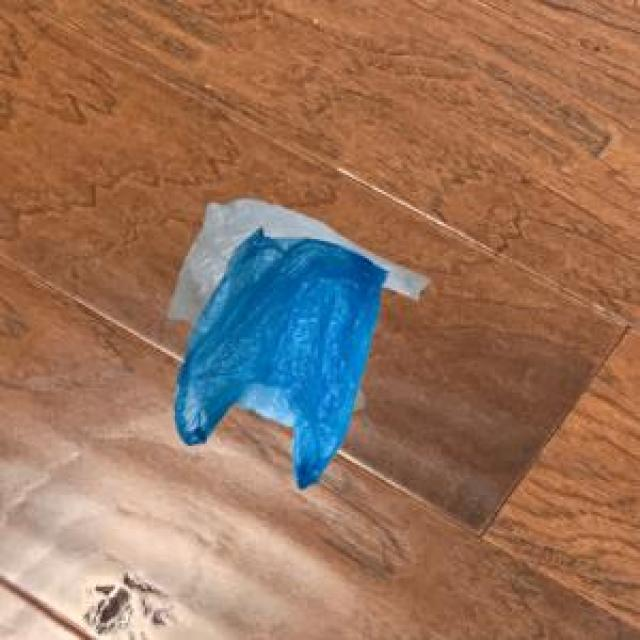plastic: (145, 132, 447, 504)
